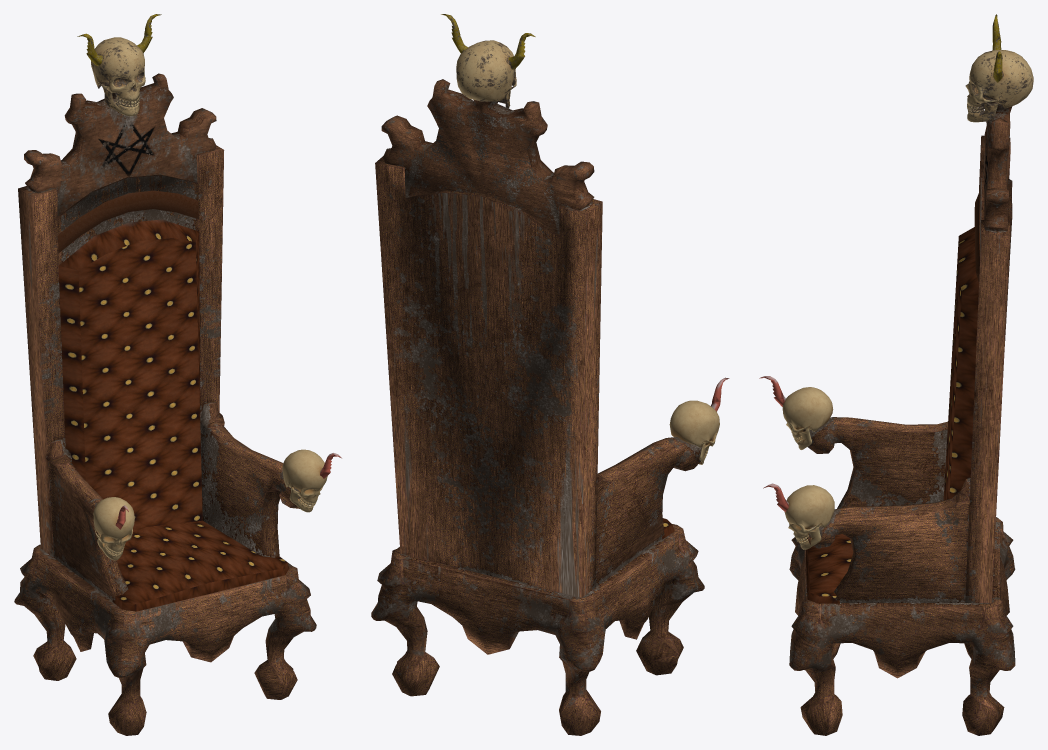
3 renders of one model, left to right at view 1: azimuth 30°, elevation 25°; view 2: azimuth 150°, elevation 25°; view 3: azimuth 270°, elevation 25°, orthographic. The views are drawn at different scales.
Parts seen in each view (by area): view 1: DukeThrone.002, DukeThrone.003, DukeThrone.001, Object01_caveira 1_0, Object01.001_caveira 2_0, Object01.002_caveira 3_0, Group57349.001; view 2: DukeThrone.002, DukeThrone.001, Object01_caveira 1_0, Object01.002_caveira 3_0, Group57349.001; view 3: DukeThrone.002, DukeThrone.003, Object01_caveira 1_0, DukeThrone.001, Object01.001_caveira 2_0, Object01.002_caveira 3_0, Group57349.001.
Boxes of the visible parts, x1=… form: DukeThrone.002: x1=14, y1=145, x2=316, y2=735; DukeThrone.003: x1=58, y1=190, x2=289, y2=611; DukeThrone.001: x1=24, y1=73, x2=216, y2=215; Object01_caveira 1_0: x1=91, y1=37, x2=145, y2=116; Object01.001_caveira 2_0: x1=282, y1=449, x2=327, y2=512; Object01.002_caveira 3_0: x1=93, y1=497, x2=134, y2=560; Group57349.001: x1=77, y1=14, x2=161, y2=66; DukeThrone.002: x1=371, y1=156, x2=704, y2=735; DukeThrone.001: x1=381, y1=79, x2=594, y2=234; Object01_caveira 1_0: x1=456, y1=40, x2=516, y2=108; Object01.002_caveira 3_0: x1=669, y1=400, x2=719, y2=464; Group57349.001: x1=441, y1=14, x2=535, y2=69; DukeThrone.002: x1=789, y1=135, x2=1015, y2=735; DukeThrone.003: x1=806, y1=193, x2=980, y2=603; Object01_caveira 1_0: x1=965, y1=50, x2=1033, y2=122; DukeThrone.001: x1=983, y1=99, x2=1012, y2=231; Object01.001_caveira 2_0: x1=784, y1=485, x2=834, y2=549; Object01.002_caveira 3_0: x1=782, y1=387, x2=833, y2=449; Group57349.001: x1=992, y1=14, x2=1002, y2=82.
Size of the model in its own units: 183 by 480 by 182.
Materials: 9 (9 with a texture image).
